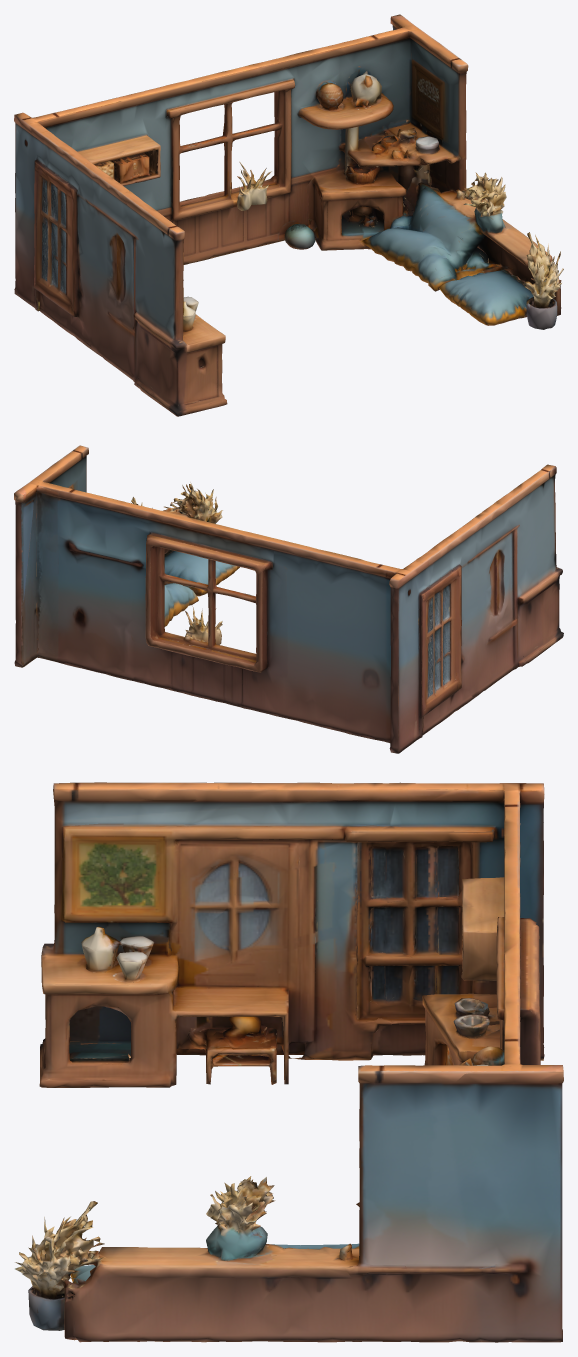
File: cat.glb
3 views of the same model, one above another, from view 1: azimuth 30°, elevation 25°; view 2: azimuth 150°, elevation 25°; view 3: azimuth 270°, elevation 25° (orthographic). The views are drawn at different scales.
Size of the model in its own units: 1.92 by 0.8311 by 1.52.
1 material, 1 textured.
